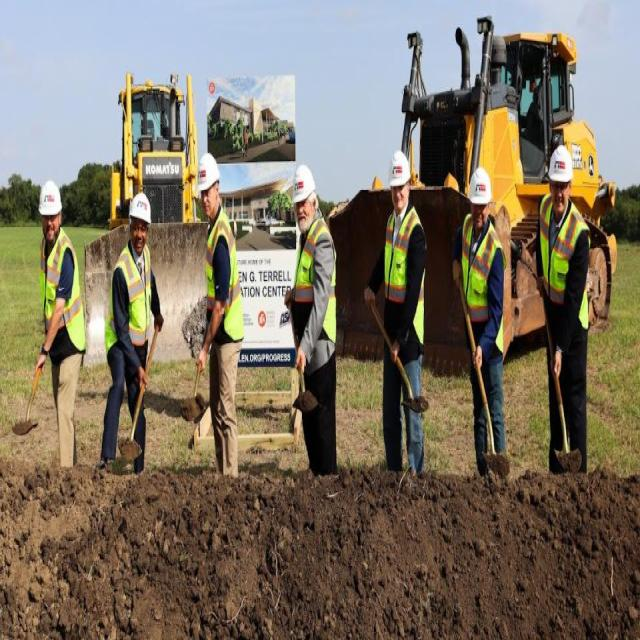Bulldozer: (329, 16, 625, 392)
